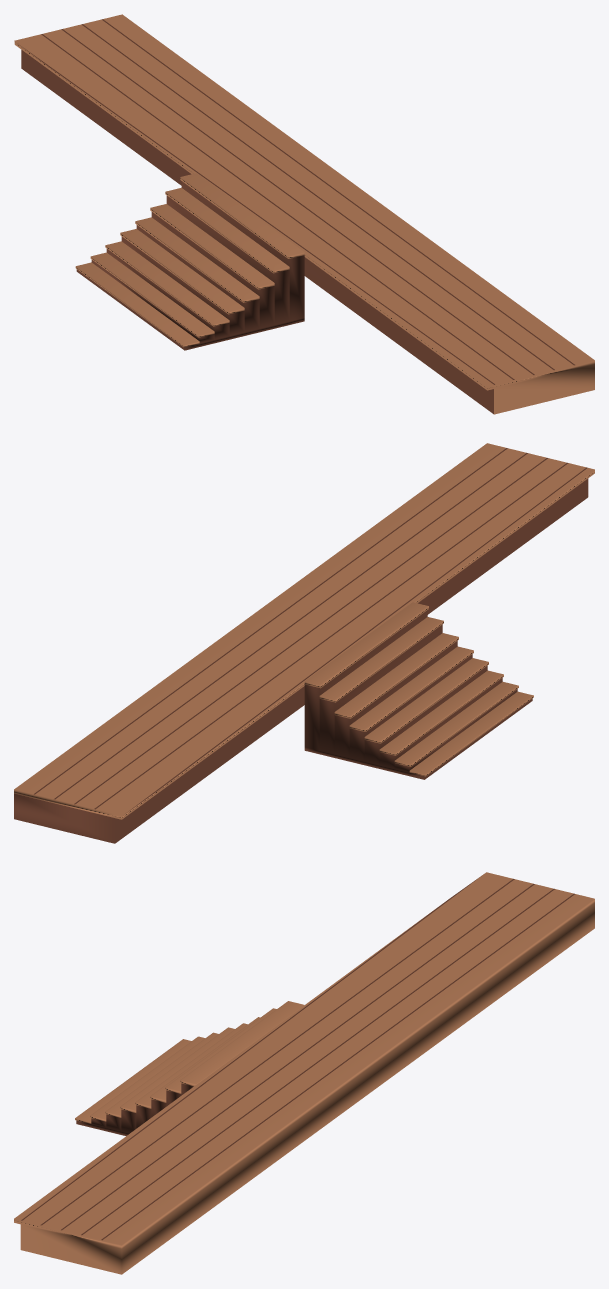
File: BrownPorch.glb
3 renders of one model, top to bottom at view 1: azimuth 30°, elevation 25°; view 2: azimuth 150°, elevation 25°; view 3: azimuth 330°, elevation 25°, orthographic.
Visible parts, largest first — view 1: Platform, StairsHouse; view 2: Platform, StairsHouse; view 3: Platform, StairsHouse.
Boxes of the visible parts, box(x1,y1,x2,y2) form: Platform: box(14, 14, 594, 414); StairsHouse: box(75, 173, 304, 350); Platform: box(14, 443, 594, 843); StairsHouse: box(304, 602, 533, 779); Platform: box(14, 872, 594, 1274); StairsHouse: box(75, 1001, 304, 1135).
Bounding box in the file's own units: 2.56 × 0.7406 × 9.16.
Materials: 1 (1 with a texture image).
